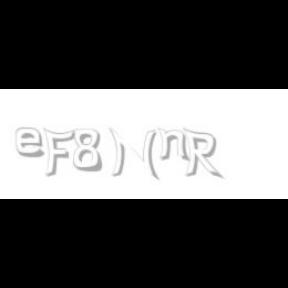8: (74, 128, 102, 172)
F: (43, 128, 75, 178)
N: (109, 128, 158, 180)
R: (183, 128, 221, 180)
e: (15, 128, 48, 158)
n: (157, 128, 191, 162)
